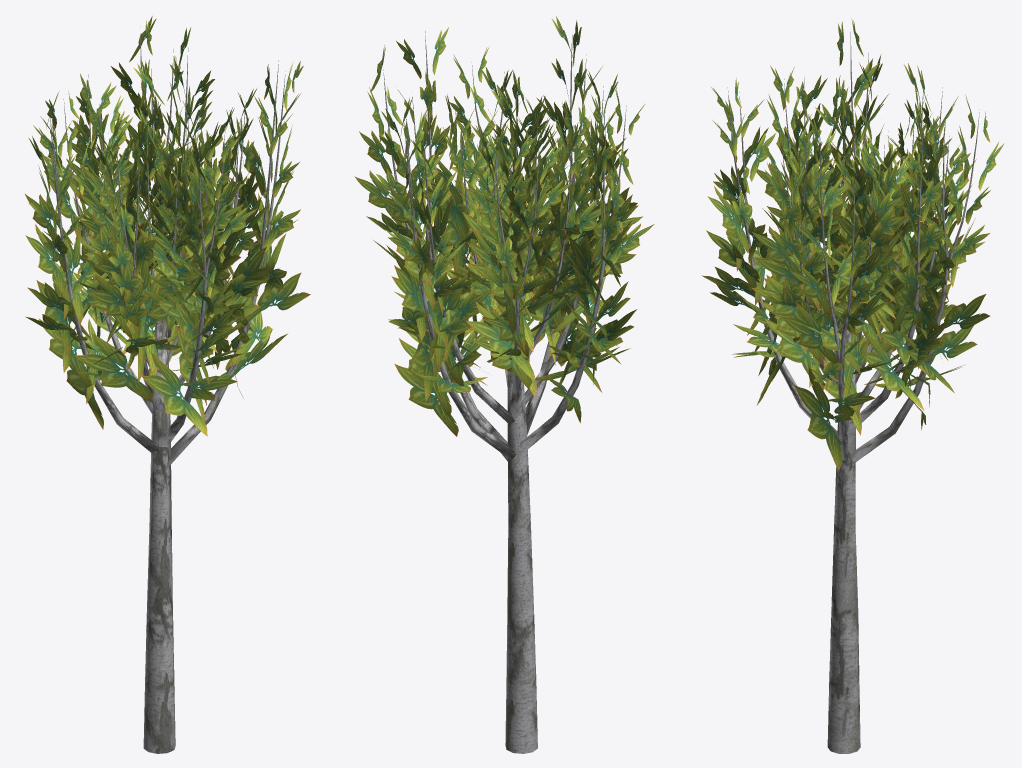
Rendered from tree.fbx.
The picture shows the model from 3 angles, left to right: view 1: azimuth 30°, elevation 25°; view 2: azimuth 150°, elevation 25°; view 3: azimuth 270°, elevation 25°; orthographic projection.
Visible parts, largest first — view 1: fan leaf_1, bark11_0; view 2: fan leaf_1, bark11_0; view 3: fan leaf_1, bark11_0.
Part boxes in pixels (box(x1,y1,x2,y2)): fan leaf_1: box(25, 16, 310, 436); bark11_0: box(49, 26, 285, 753); fan leaf_1: box(354, 16, 654, 436); bark11_0: box(383, 31, 626, 753); fan leaf_1: box(702, 19, 1004, 470); bark11_0: box(727, 32, 979, 753).
Size of the model in its own units: 80.28 by 186 by 77.34.
